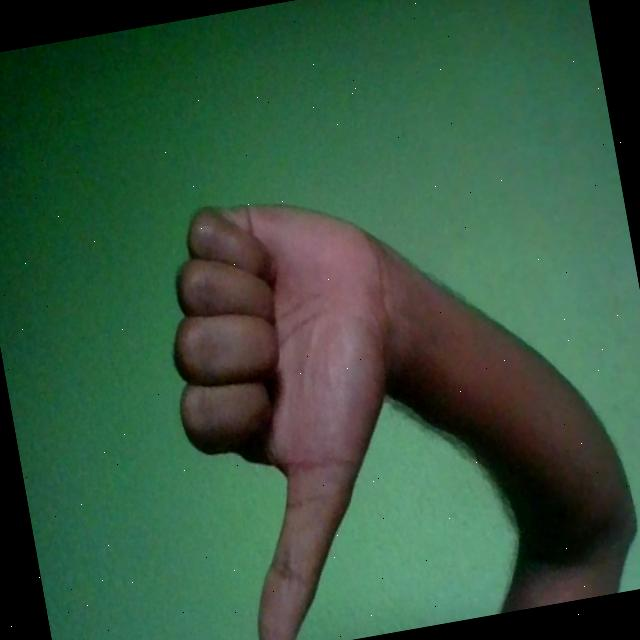Dislike: (146, 175, 450, 640)
